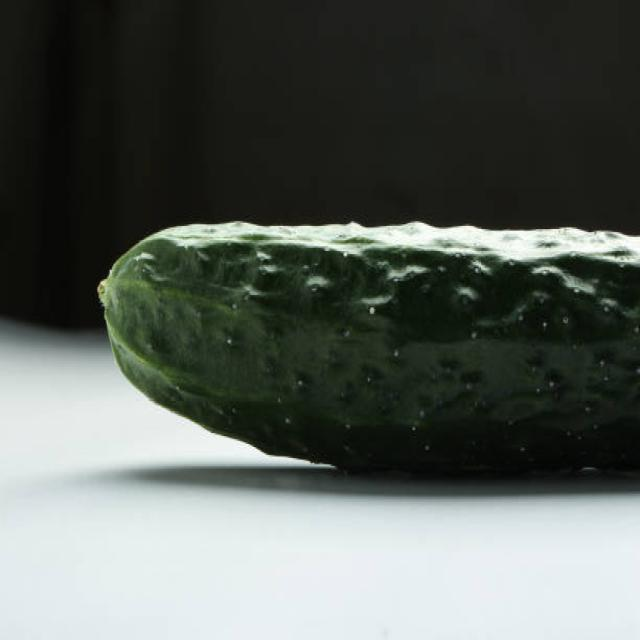cucumber: (105, 218, 640, 478)
